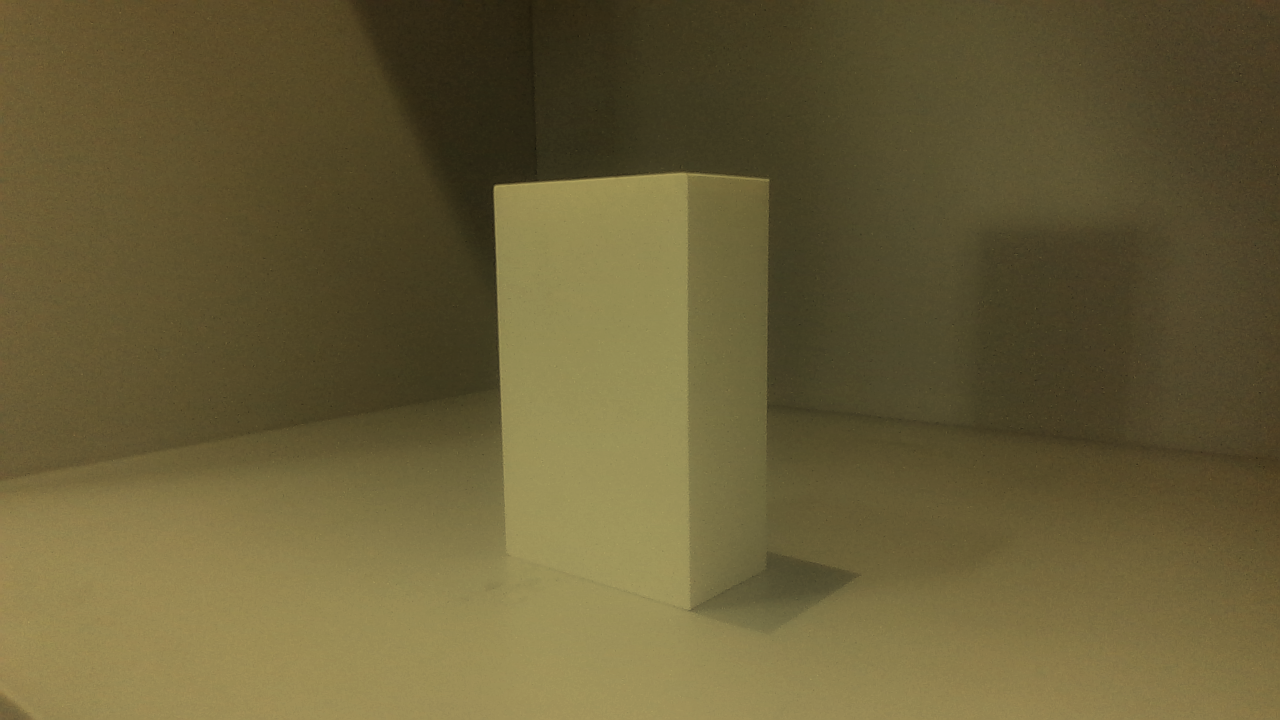Retangulo: (495, 173, 768, 608)
